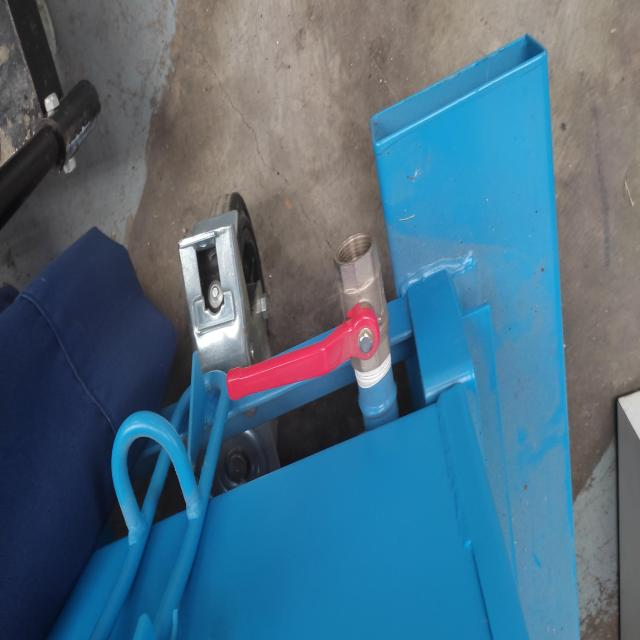closed_valve: (225, 230, 393, 401)
